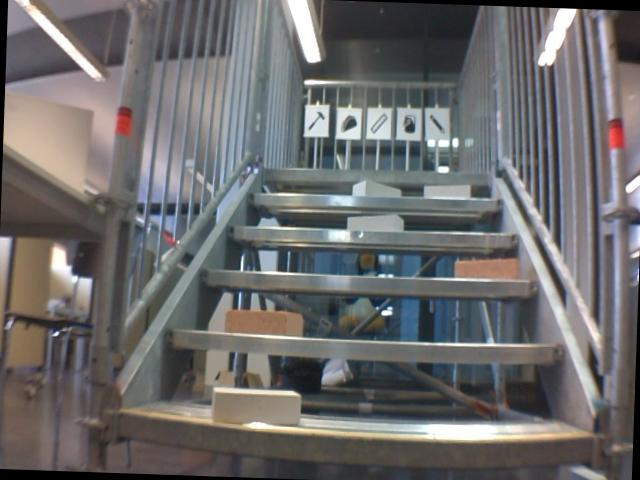brick: (211, 387, 301, 425), (225, 309, 302, 336), (453, 257, 518, 279), (347, 211, 403, 231), (352, 180, 400, 197), (423, 183, 470, 199)
bucket: (400, 111, 419, 134)
edge: (116, 411, 594, 468), (165, 329, 562, 367), (202, 269, 539, 298), (222, 225, 519, 248), (246, 190, 507, 212), (264, 167, 492, 186)
hammer: (305, 107, 325, 134)
pencil: (425, 110, 447, 136)
ruler: (366, 110, 389, 137)
steps: (111, 161, 606, 476)
taco: (337, 111, 359, 135)
